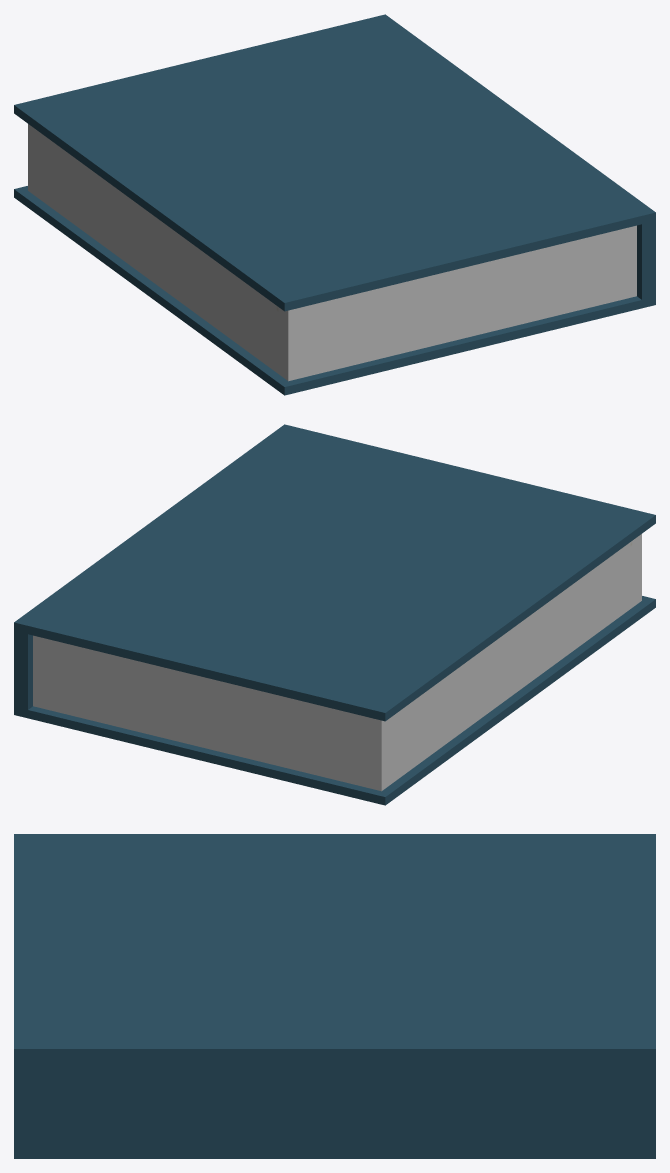
The model's file is BookGeneric_1.obj.
3 renders of one model, top to bottom at view 1: azimuth 30°, elevation 25°; view 2: azimuth 150°, elevation 25°; view 3: azimuth 270°, elevation 25°, orthographic. The views are drawn at different scales.
Parts seen in each view (by area): view 1: BookGeneric_1; view 2: BookGeneric_1; view 3: BookGeneric_1.
Boxes of the visible parts, <box> form: BookGeneric_1: <box>14,14,655,395</box>; BookGeneric_1: <box>14,424,655,805</box>; BookGeneric_1: <box>14,834,655,1158</box>.
Size of the model in its own units: 0.42 by 0.1 by 0.53.
Materials: 1 (1 with a texture image).
